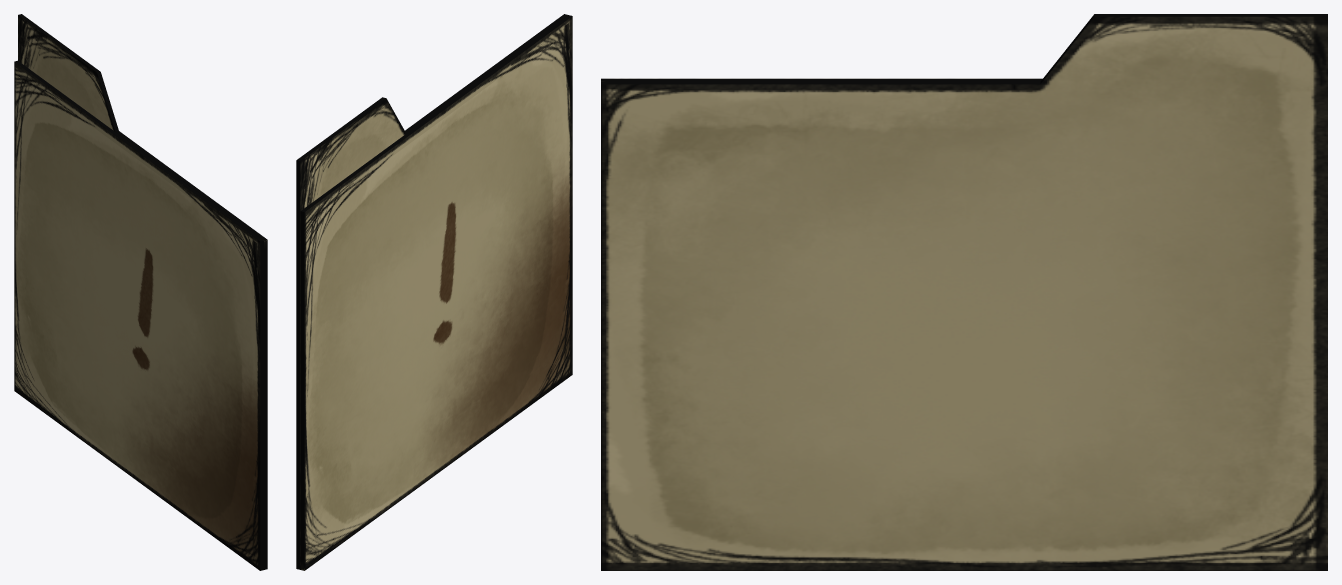
Rendered from folder_diesel.fbx.
3 renders of one model, left to right at view 1: azimuth 30°, elevation 25°; view 2: azimuth 150°, elevation 25°; view 3: azimuth 270°, elevation 25°, orthographic. The views are drawn at different scales.
Visible parts, largest first — view 1: folder_front.014, folder_diesel; view 2: folder_front.014, folder_diesel; view 3: folder_diesel, folder_front.014.
Part boxes in pixels (x1,y1,x2,y2): folder_front.014: (14,60,263,570); folder_diesel: (18,14,267,569); folder_front.014: (300,15,572,570); folder_diesel: (296,14,567,569); folder_diesel: (601,14,1327,570); folder_front.014: (601,78,1042,81).
Bounding box in the file's own units: 0.0113 × 0.5374 × 0.6385.
2 materials, 2 textured.
